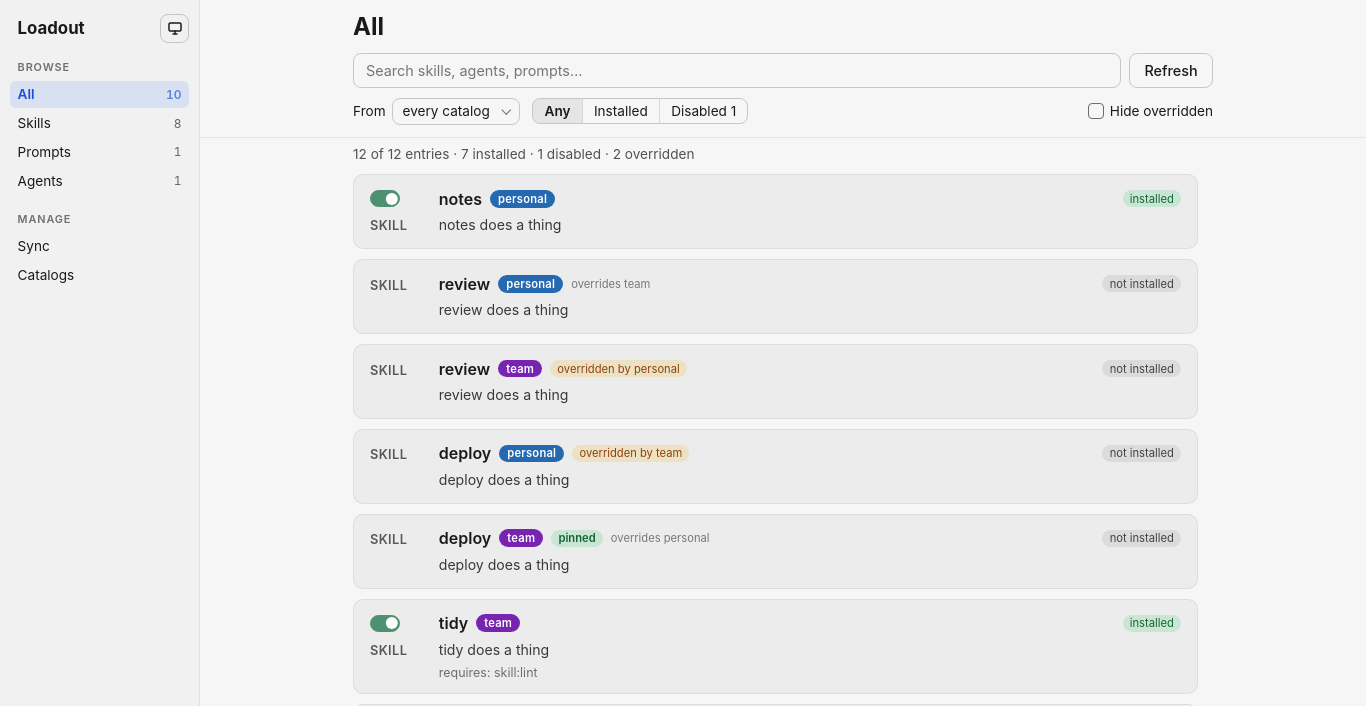
UI-16: the counts line › counts what is shown against what there is; a disabled copy is installed and disabled
Expected: the text with class "summary" reads "12 of 12 entries · 7 installed · 1 disabled · 2 overridden", [353,146,694,162]
In the search field with placeholder "Search skills, agents, prompts…": (737, 70) [353,53,1121,88], type "lint"
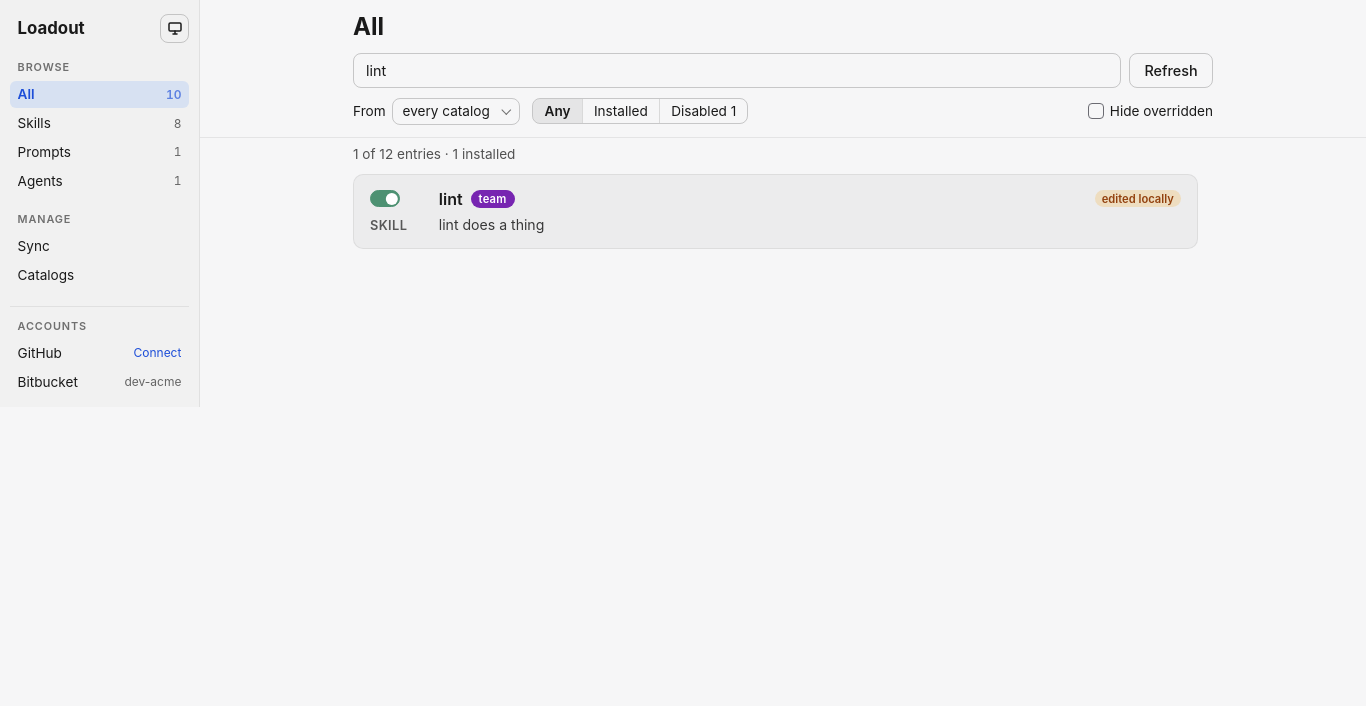
Expected: the element with class "summary" does not show "disabled"
Expected: the text with class "summary" reads "1 of 12 entries · 1 installed", [353,146,516,162]
